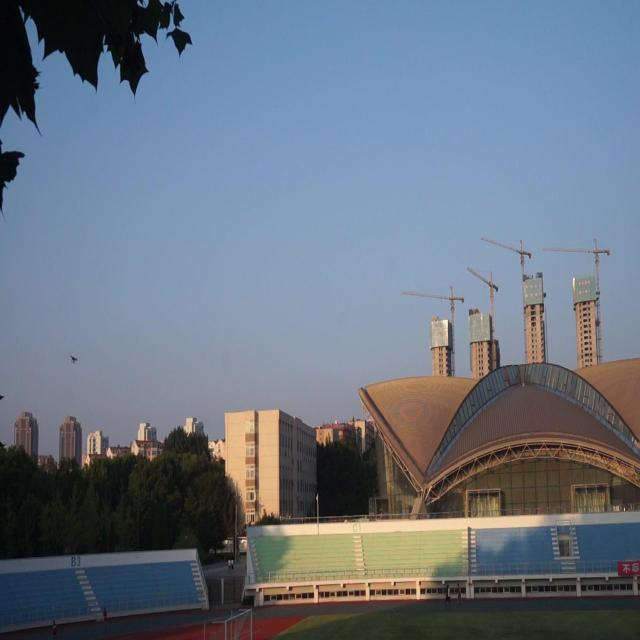drone: (68, 351, 80, 368)
